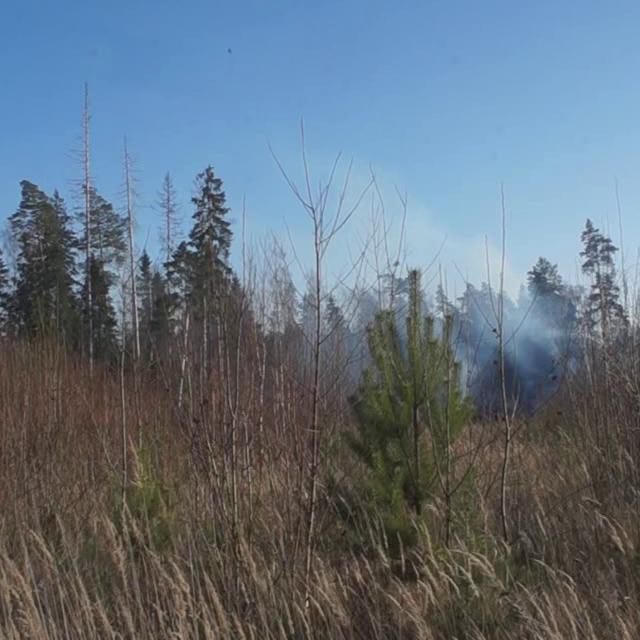Smoke: (307, 164, 574, 408)
